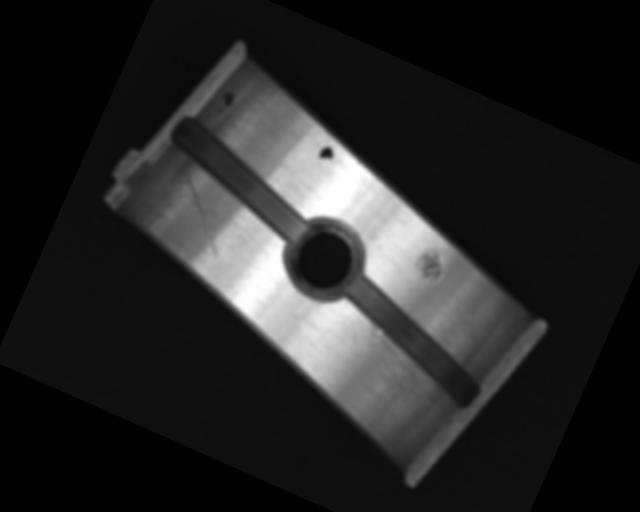blot: (212, 87, 238, 118), (313, 143, 336, 169)
bruise: (409, 238, 452, 285)
gap: (320, 270, 502, 411), (149, 112, 329, 246)
hole: (277, 208, 373, 308)
nick: (159, 175, 243, 261)
scratch: (312, 305, 469, 442)
